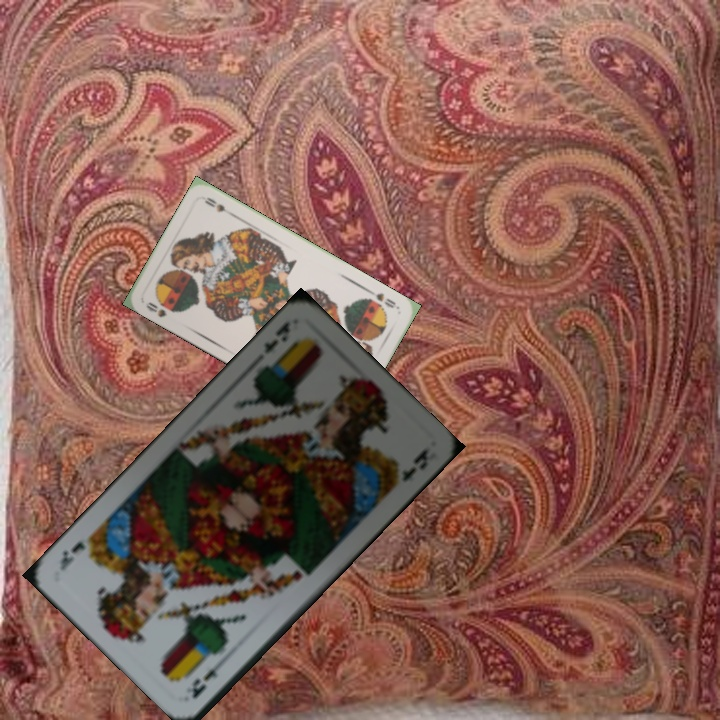EK: (181, 653, 229, 702), (259, 317, 293, 357)
SO: (364, 286, 398, 311), (141, 298, 169, 320)
